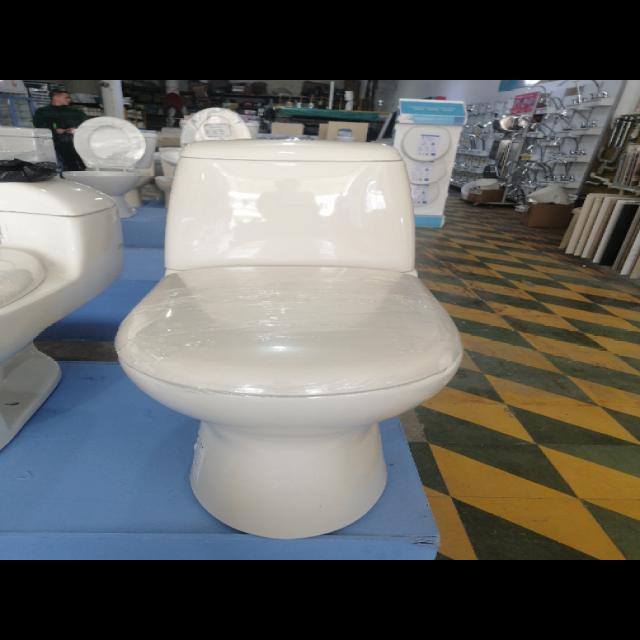toilet: (114, 137, 463, 539), (0, 124, 124, 449), (154, 107, 255, 204), (60, 116, 147, 218), (127, 129, 159, 206)
